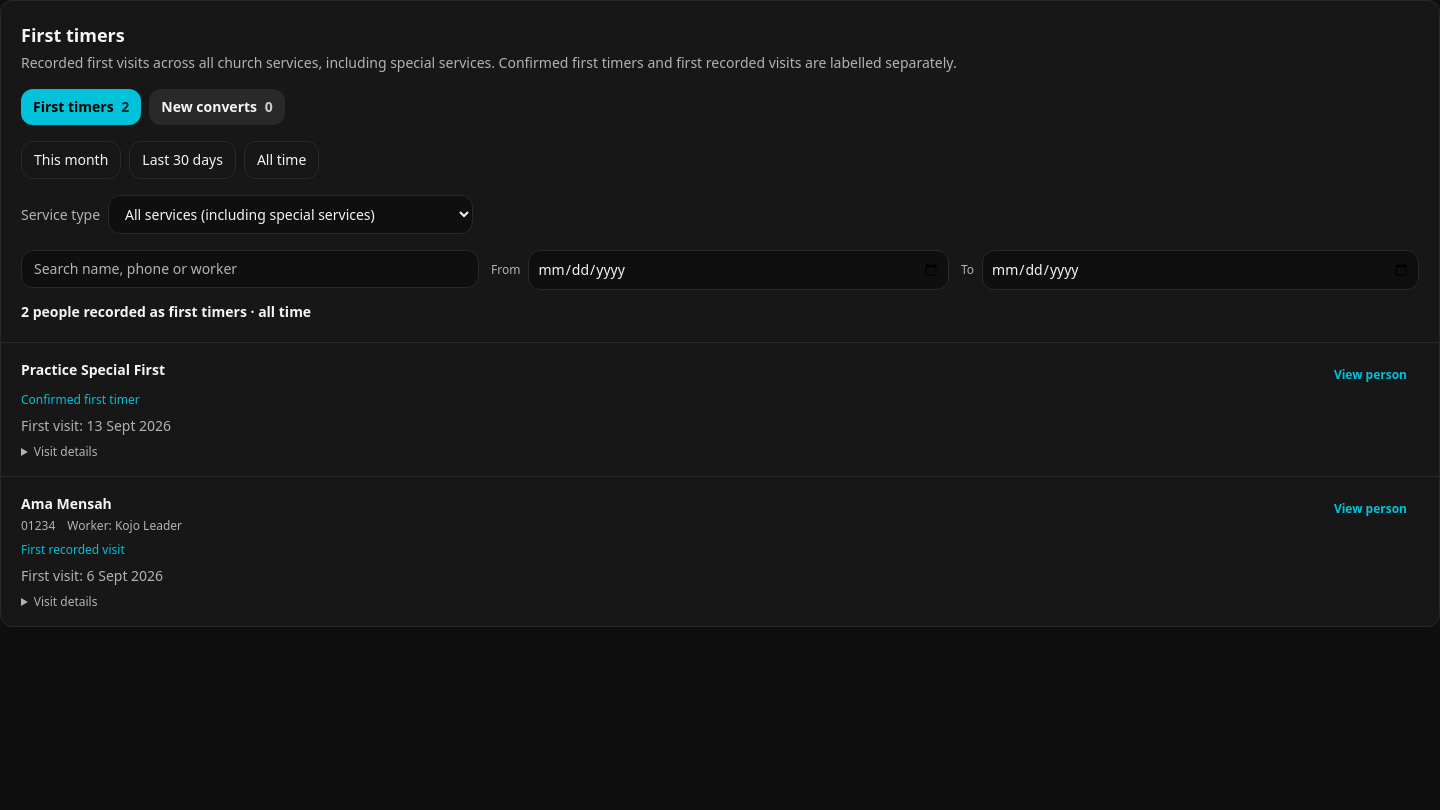
it: counts special-service first timers and filters them separately from Sunday first visits
Expected: the message shows "2 people recorded as first timers", [21,302,311,321]
Expected: the text "First recorded visit" is shown, [21,541,125,558]
Select "Special services (including Easter and Christmas)" in the dropdown labelled "Service type" at (290, 214), box [108,195,473,234]
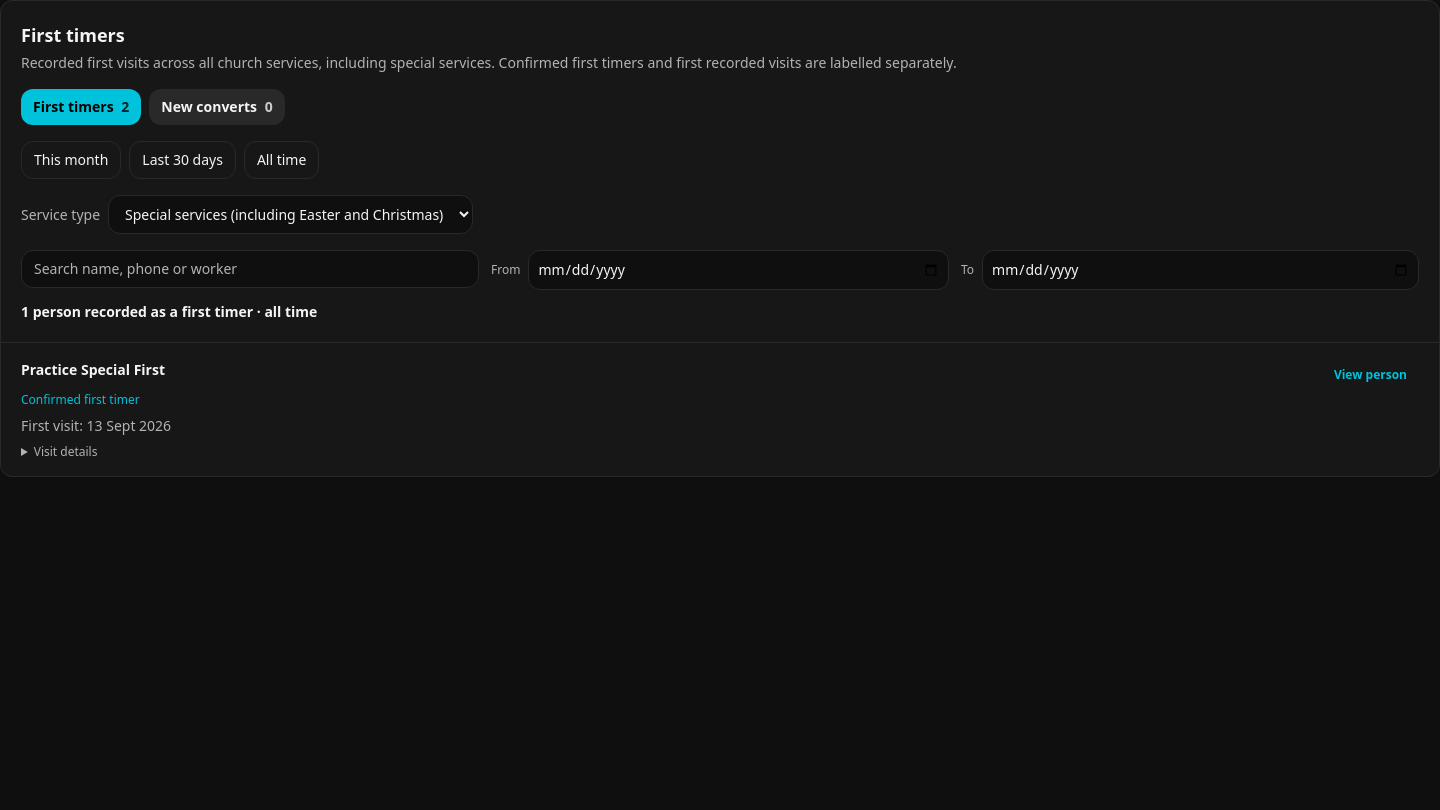
Expected: the button "Practice Special First" is shown, [21,360,165,380]
Now the message shows "1 person recorded as a first timer", box [21,302,317,321]
Now the button "Ama Mensah" is gone
